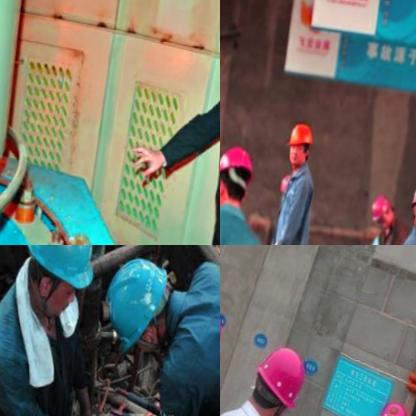helmet: (93, 248, 184, 362), (7, 245, 107, 326), (242, 338, 311, 416), (220, 136, 262, 216), (281, 116, 318, 173), (365, 193, 394, 238), (366, 392, 412, 416), (402, 175, 416, 239)
